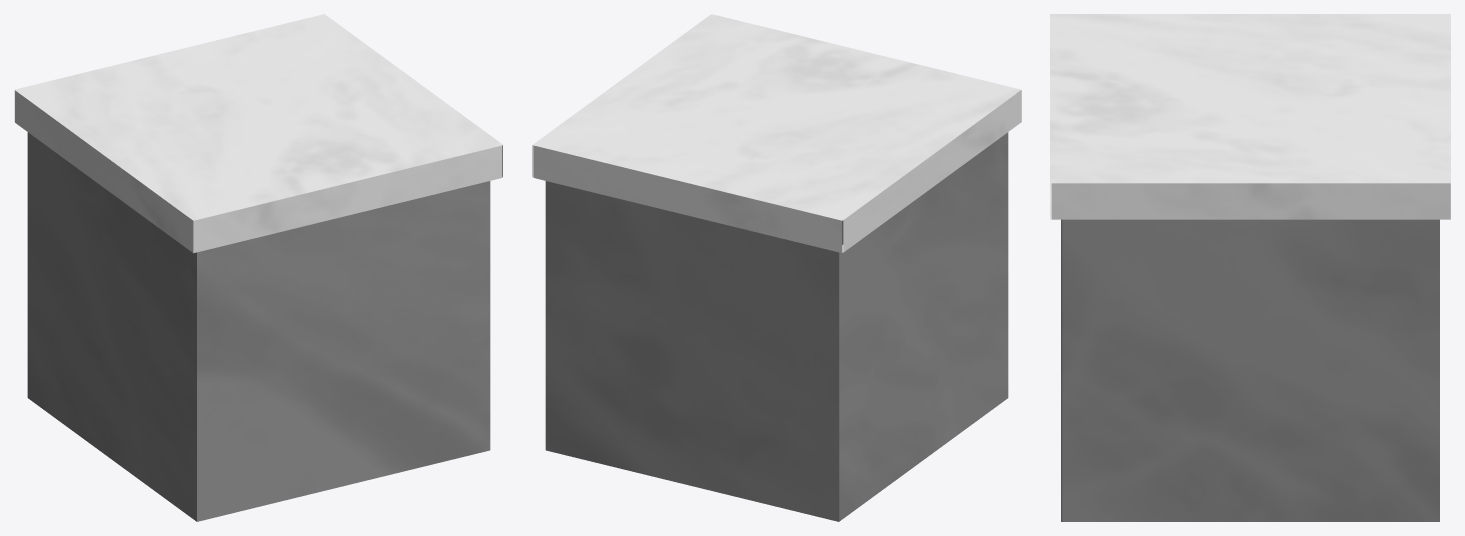
File: balcao.fbx
3 renders of one model, left to right at view 1: azimuth 30°, elevation 25°; view 2: azimuth 150°, elevation 25°; view 3: azimuth 270°, elevation 25°, orthographic. The views are drawn at different scales.
Visible parts, largest first — view 1: Cube; view 2: Cube; view 3: Cube.
Part boxes in pixels (x1,y1,x2,y2): Cube: (14,14,503,521); Cube: (532,14,1021,521); Cube: (1050,14,1450,521).
Bounding box in the file's own units: 212 × 200 × 212.
Materials: 1 (1 with a texture image).
